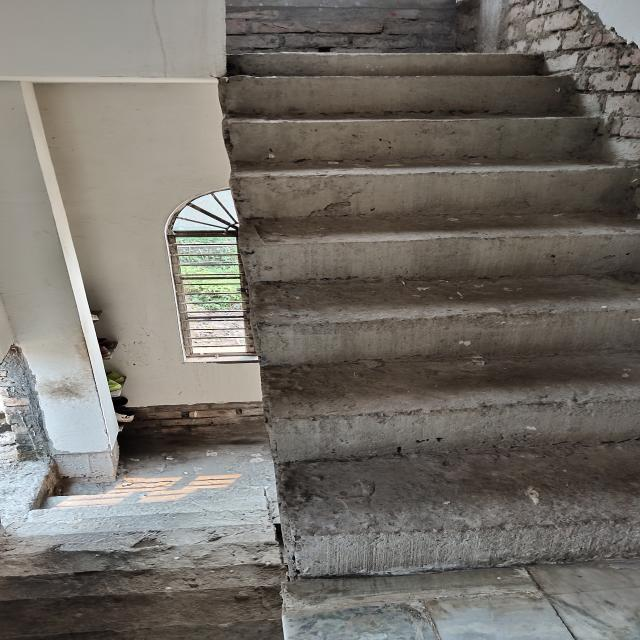Stairs: (154, 42, 640, 607)
